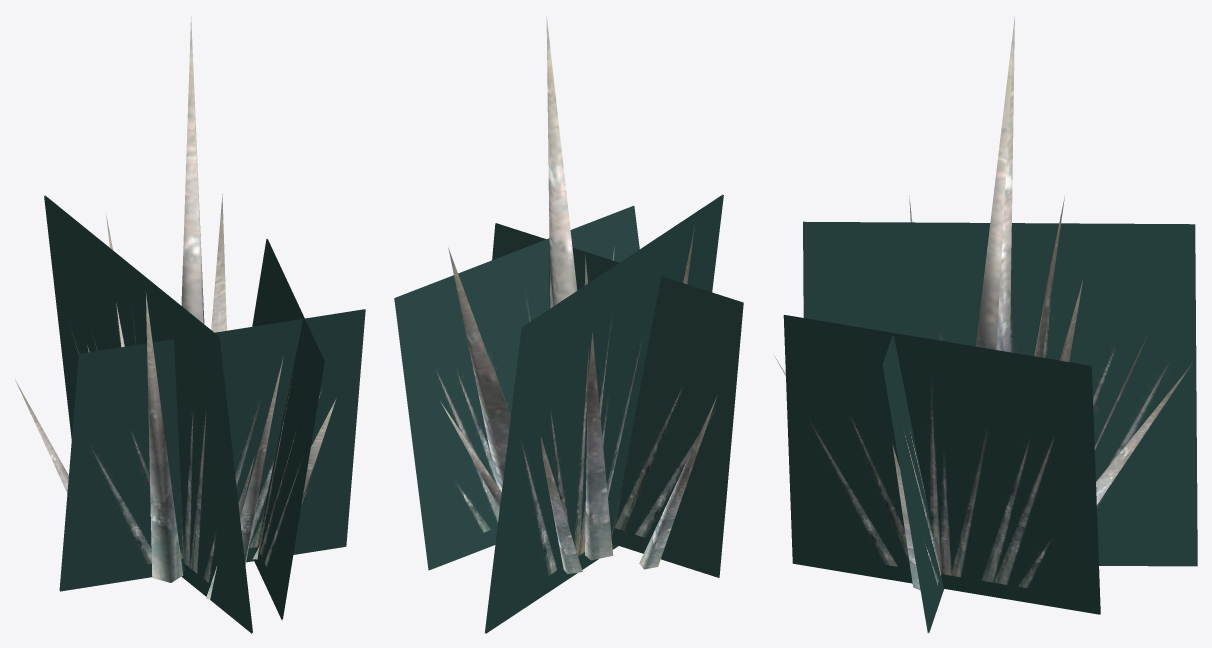
File: rock_crystl_shrpbush_main_l3.fbx
The picture shows the model from 3 angles, left to right: view 1: azimuth 30°, elevation 25°; view 2: azimuth 150°, elevation 25°; view 3: azimuth 270°, elevation 25°; orthographic projection. The views are drawn at different scales.
Parts seen in each view (by area): view 1: mesh_node; view 2: mesh_node; view 3: mesh_node.
Boxes of the visible parts, box(x1,y1,x2,y2) form: mesh_node: box(15, 16, 365, 633); mesh_node: box(394, 16, 743, 633); mesh_node: box(774, 16, 1197, 632).
Size of the model in its own units: 3.32 by 5.98 by 4.04.
